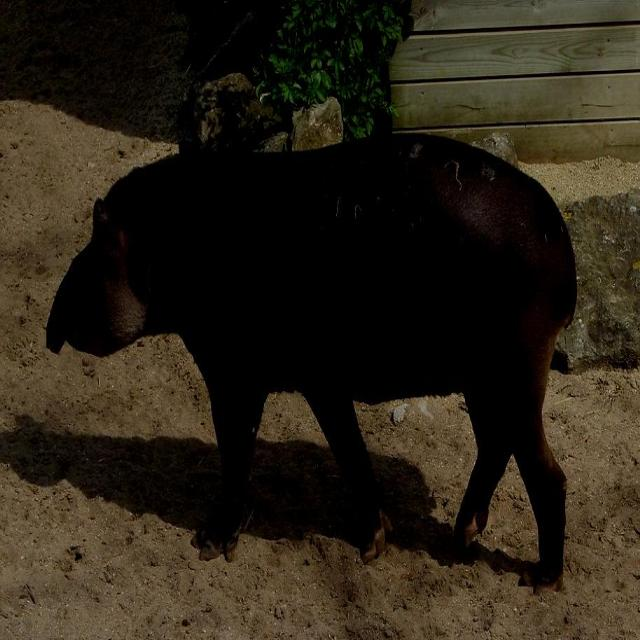pig: (46, 136, 576, 589)
